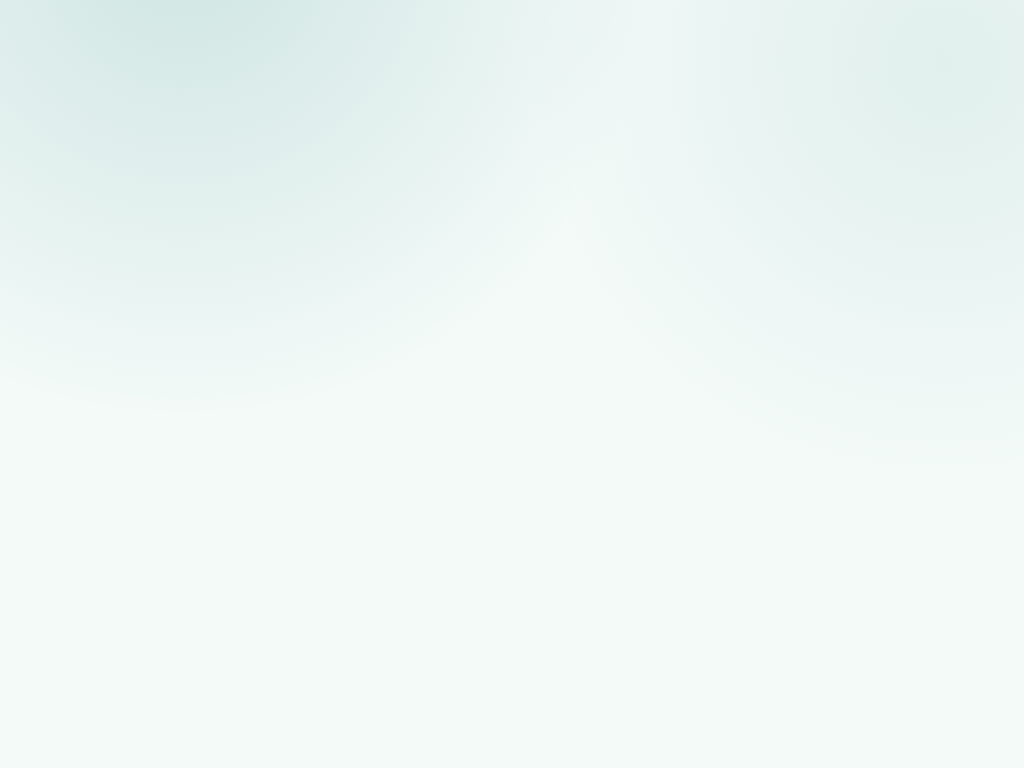
Scenario: command palette › shows an empty state and announces that nothing matches
Press k
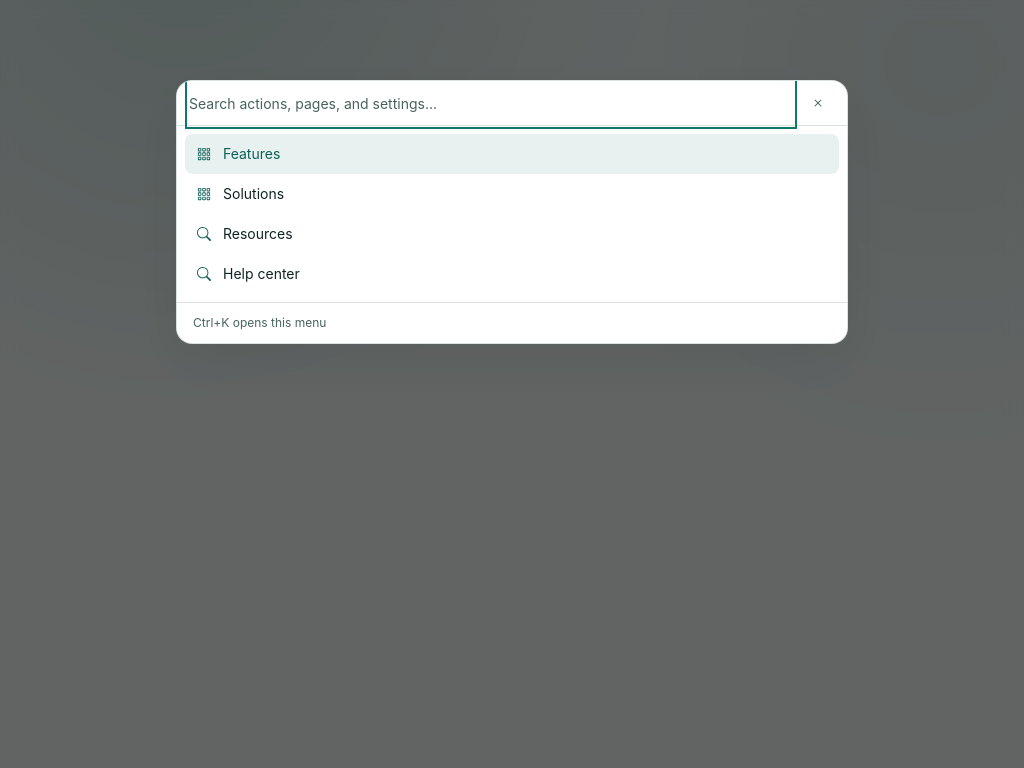
Type "zzzzz" into the dropdown named "Search commands" at (491, 103), box [189, 81, 793, 125]
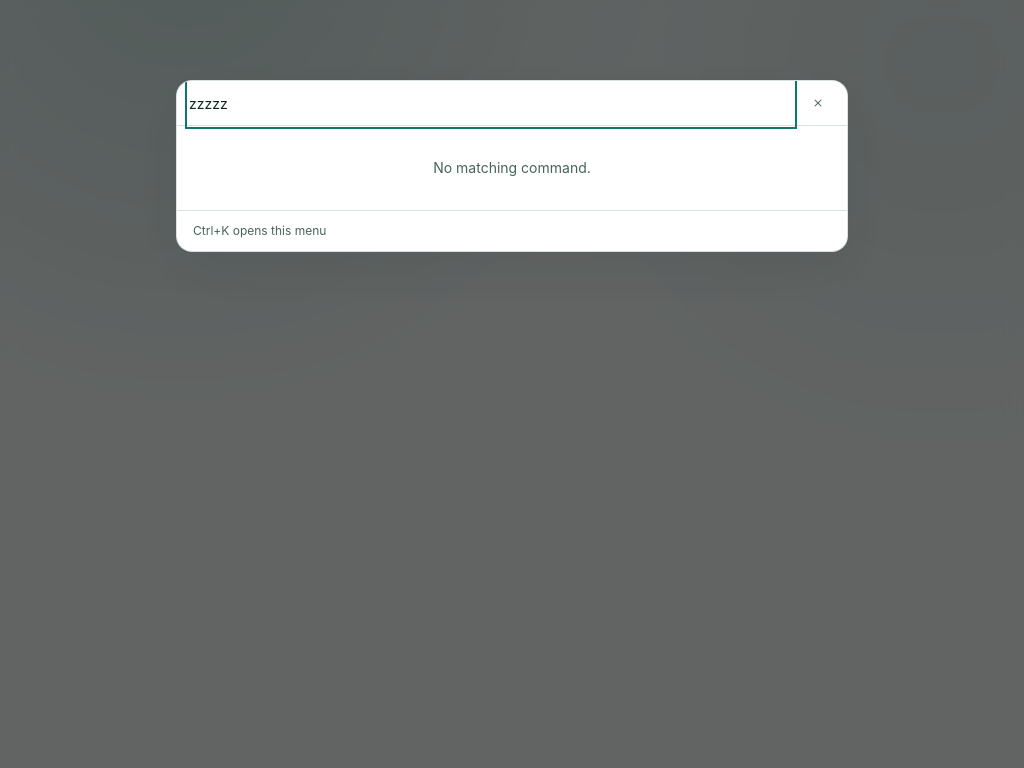
Result: the text "No matching command." is shown at [433, 159, 591, 176]
